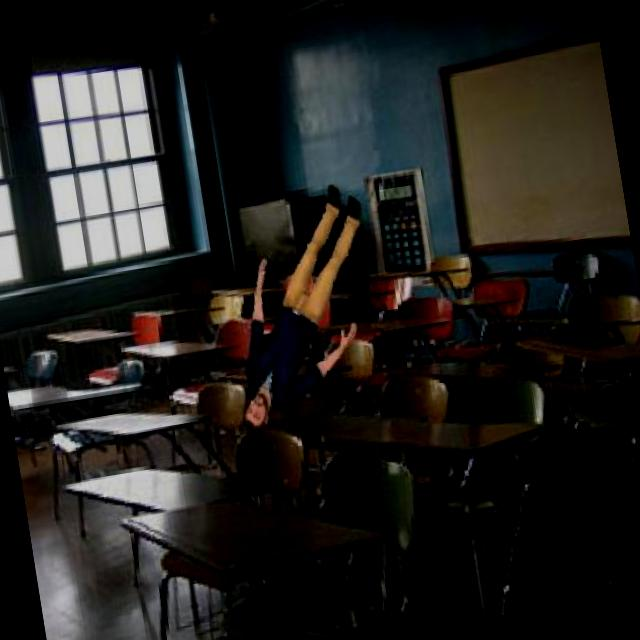Person: (205, 178, 398, 442)
